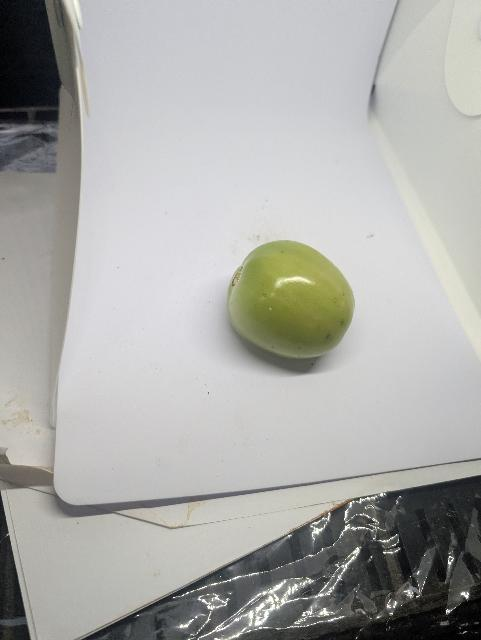green: (219, 230, 373, 384)
